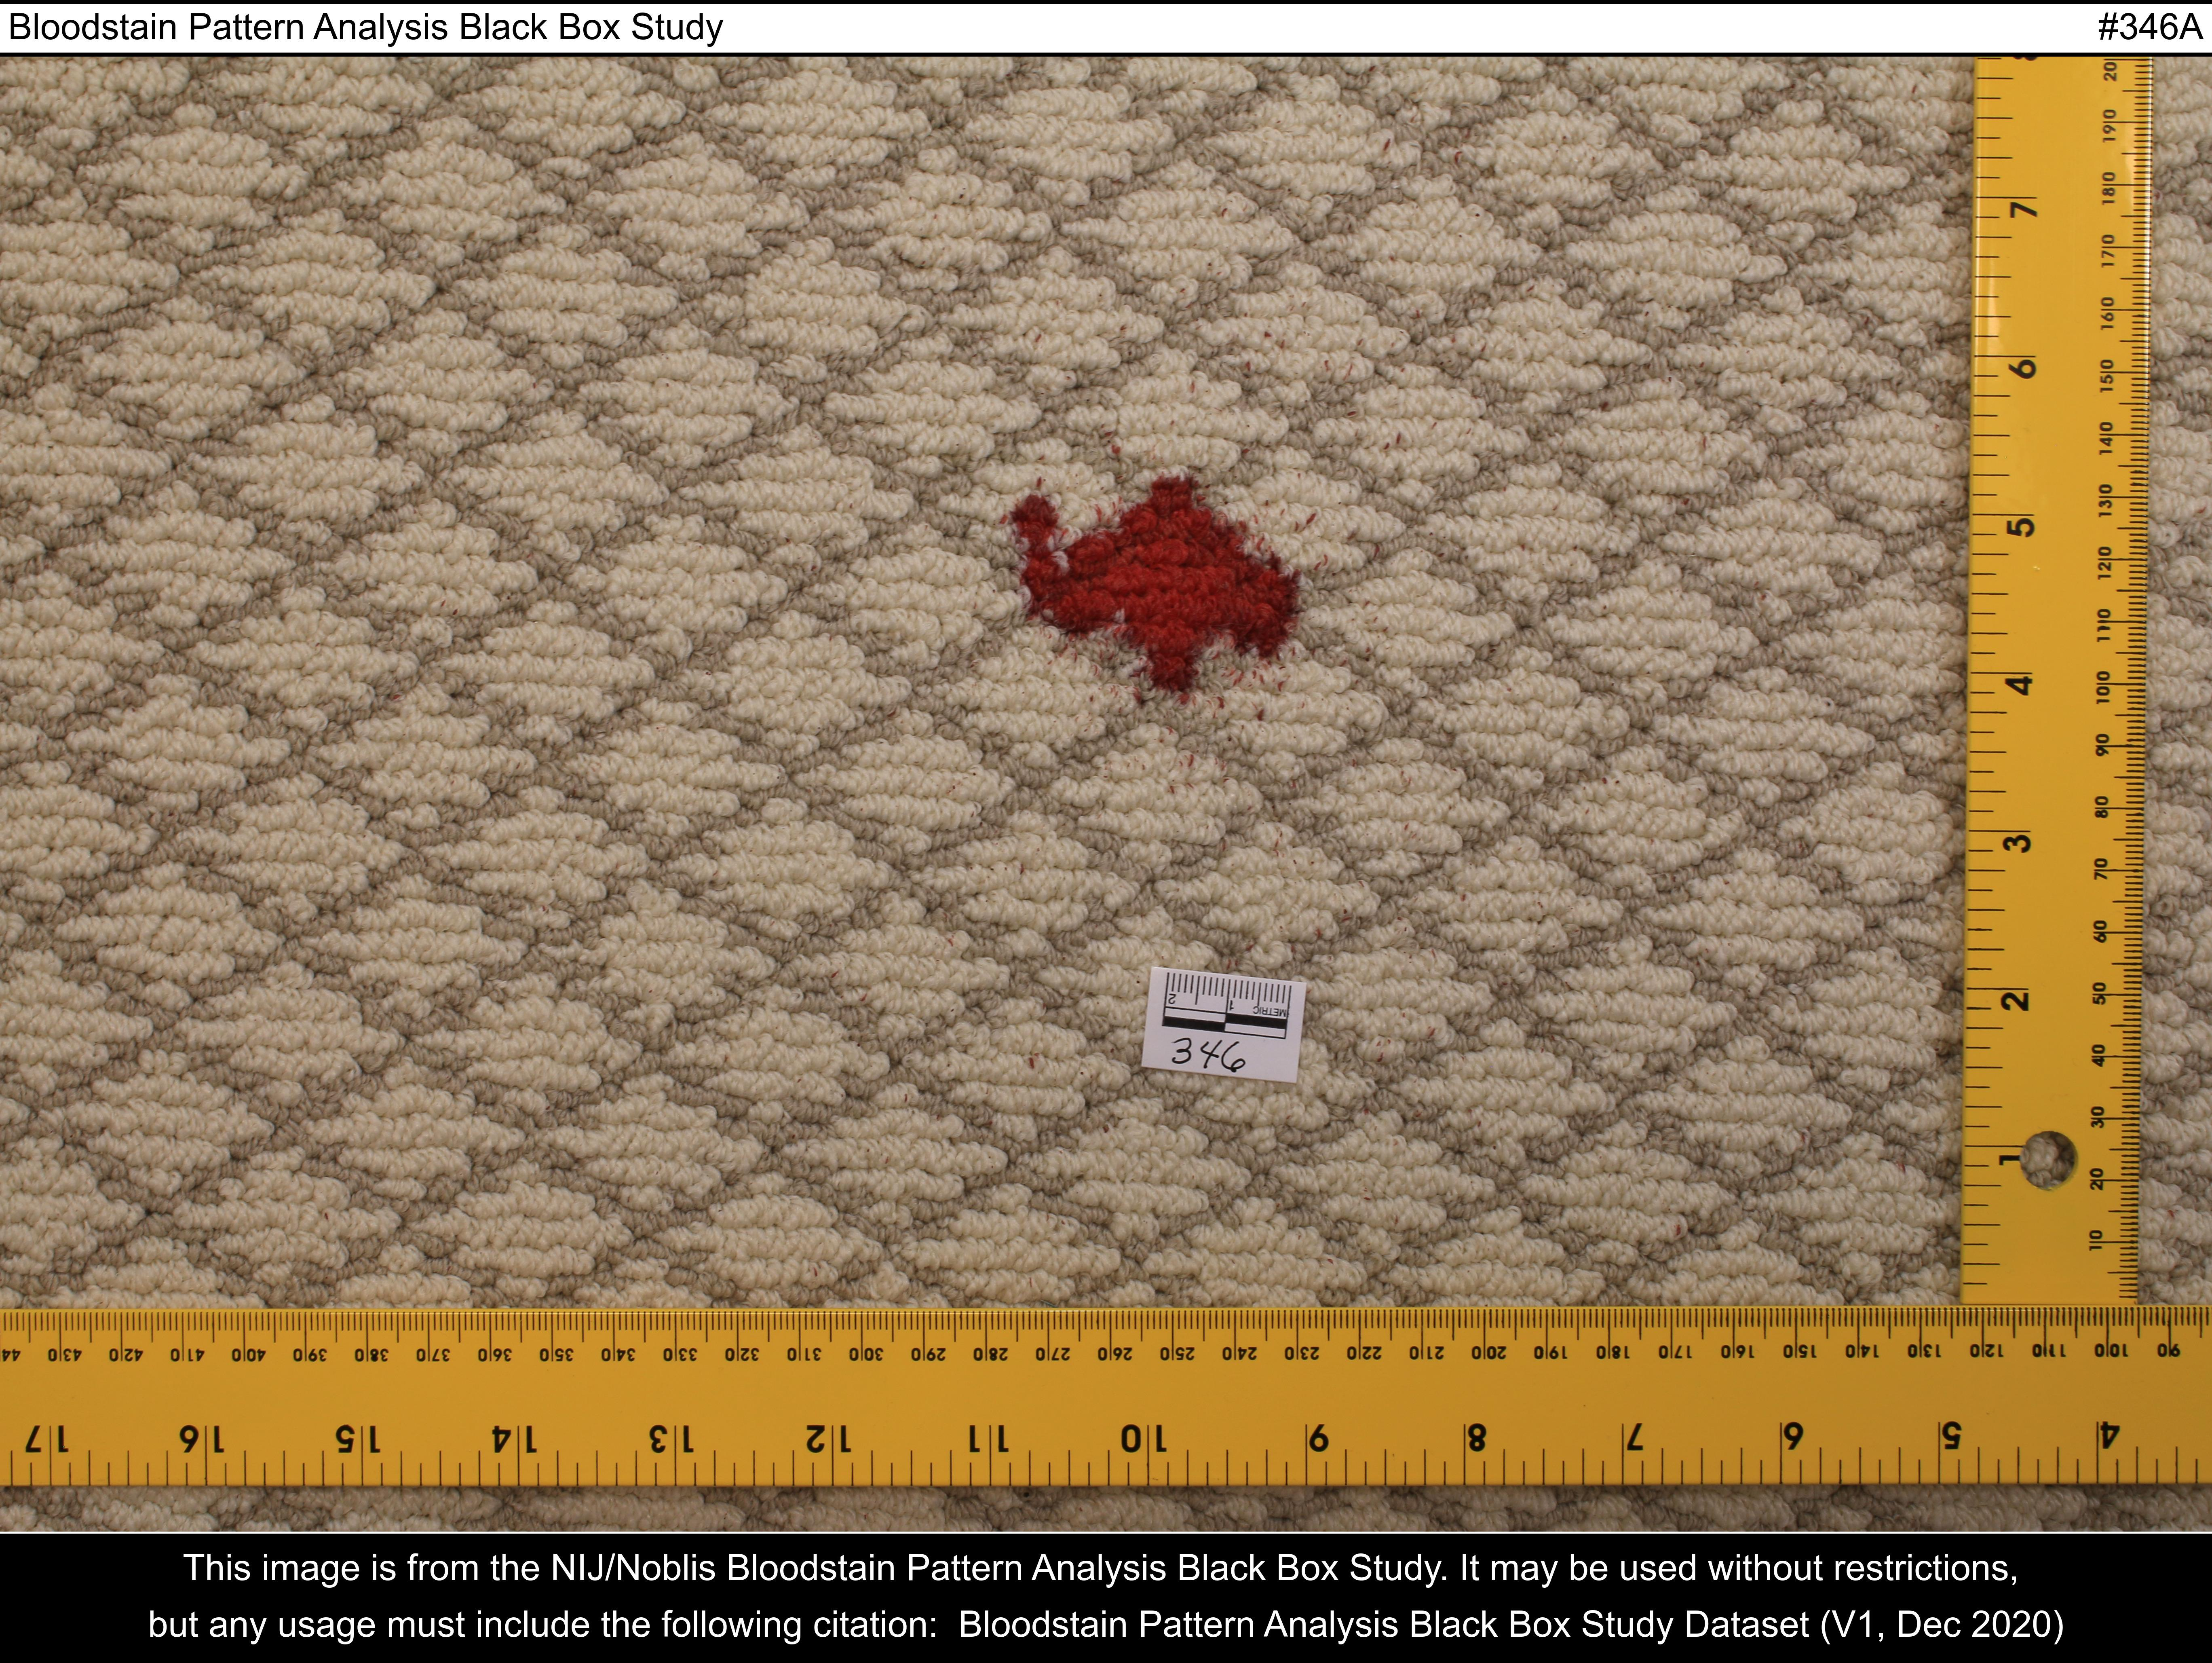Passive: (985, 459, 1407, 741)
